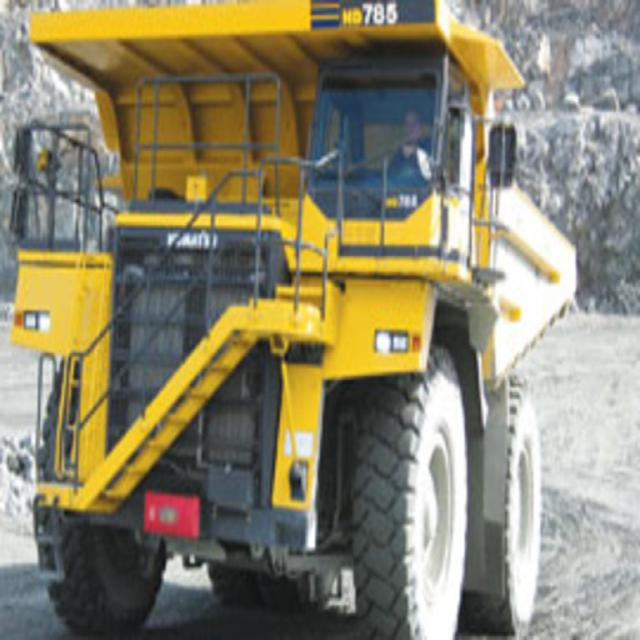dump_truck: (15, 4, 577, 627)
